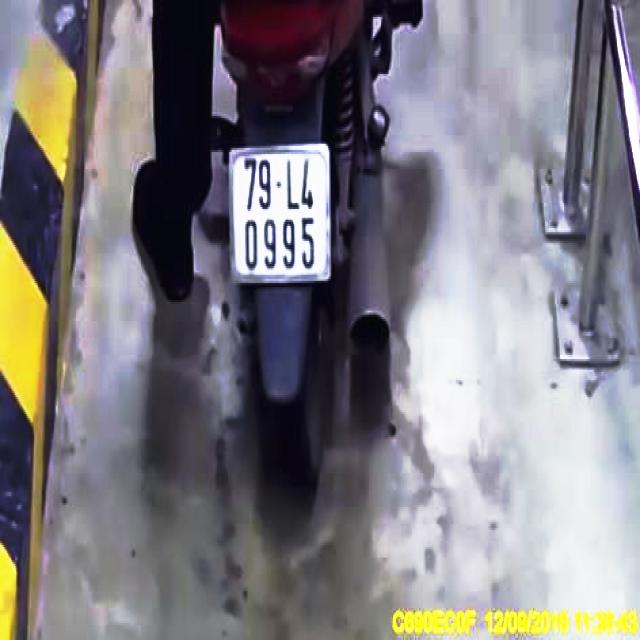license_plate: (230, 149, 330, 283)
